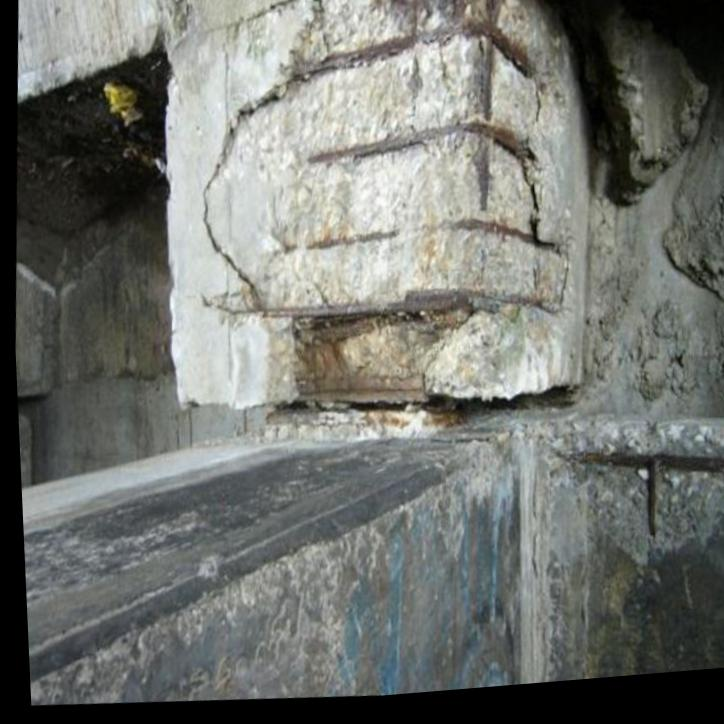crack: (197, 97, 278, 320), (490, 147, 554, 256)
damage: (162, 0, 724, 581), (567, 19, 724, 424)
